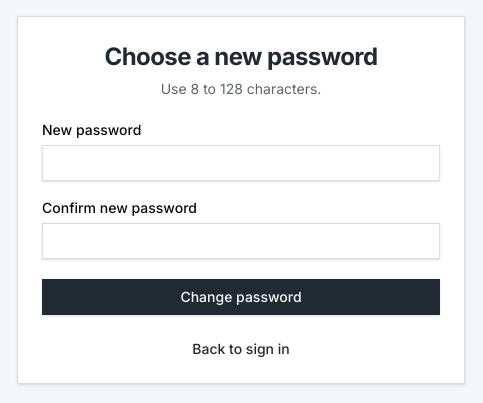
Reset password page › offers a new link when the server rejects this one
In the password field labelled "New password": (241, 163) [42, 145, 440, 181], type "new-password-1"
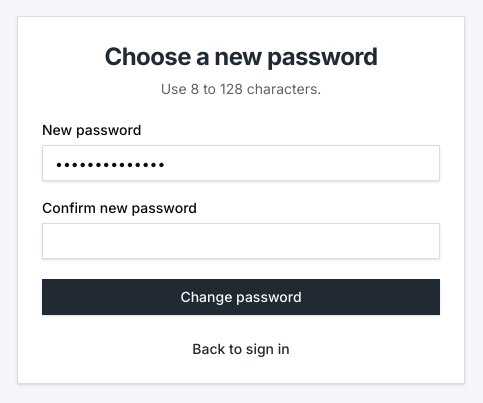
In the password field labelled "Confirm new password": (241, 241) [42, 223, 440, 259], type "new-password-1"
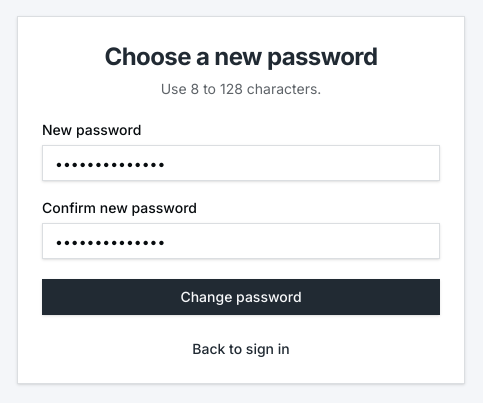
Click the button "Change password": click(241, 297) [42, 279, 440, 315]
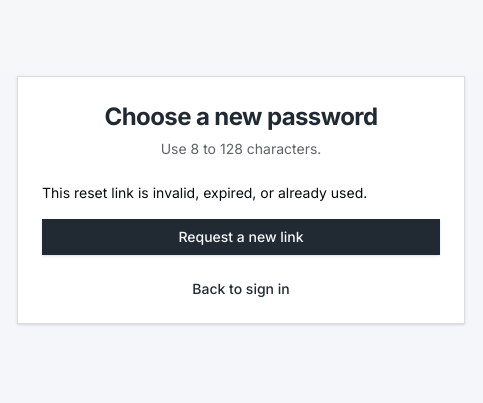
Expected: the message reads "This reset link is invalid, expired, or already used.", [42, 184, 367, 201]
